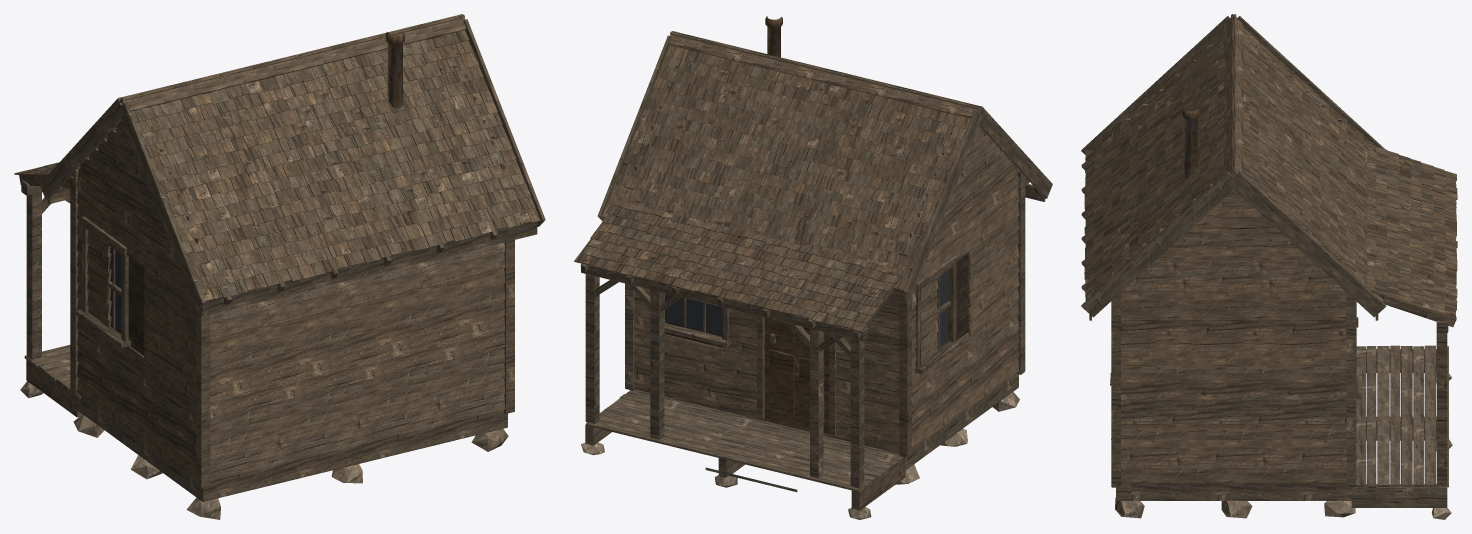
File: b_house.glb
The picture shows the model from 3 angles, left to right: view 1: azimuth 30°, elevation 25°; view 2: azimuth 150°, elevation 25°; view 3: azimuth 270°, elevation 25°; orthographic projection. The views are drawn at different scales.
Parts seen in each view (by area): view 1: b_house; view 2: b_house; view 3: b_house.
Part boxes in pixels (x1,y1,x2,y2): b_house: (14, 14, 545, 519); b_house: (574, 16, 1052, 519); b_house: (1081, 14, 1457, 519).
Bounding box in the file's own units: 3.88 × 4.35 × 3.93.
Materials: 4 (3 with a texture image).
